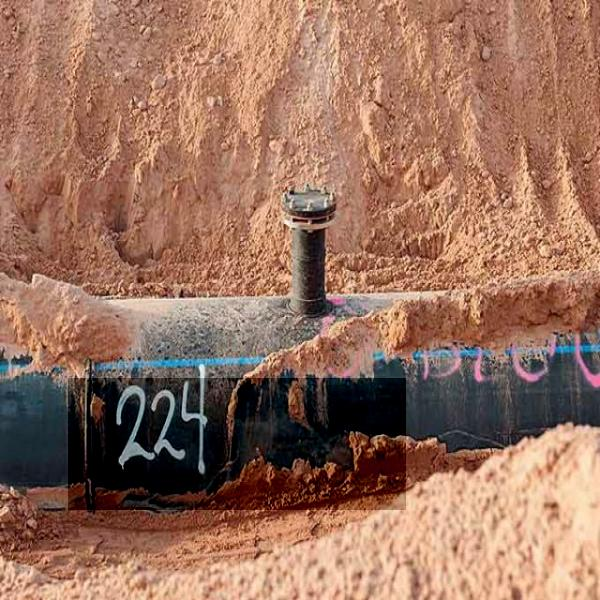crack: (68, 378, 406, 510)
